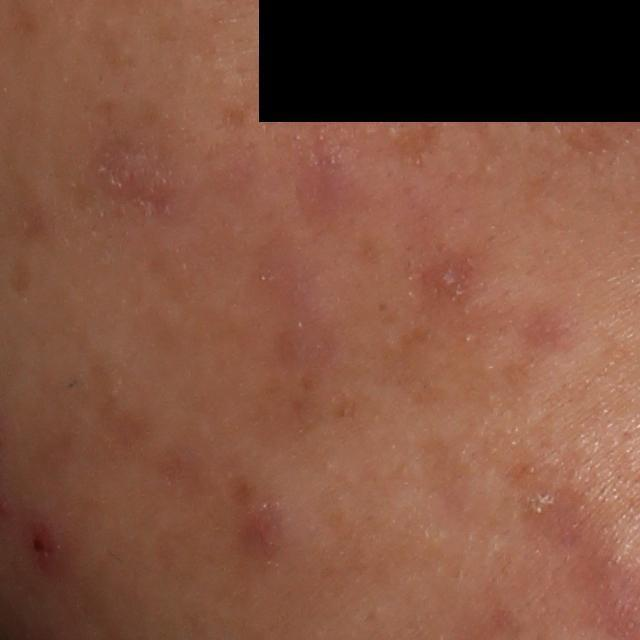papule: (234, 481, 291, 555), (21, 523, 57, 575)
